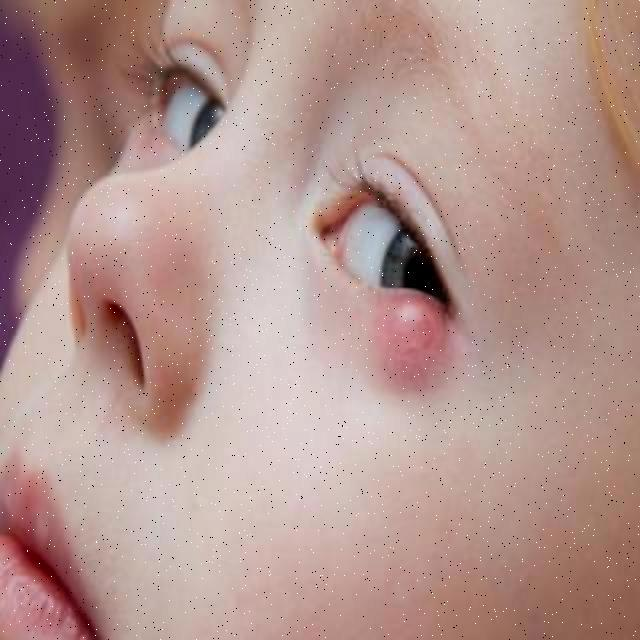Stye: (335, 254, 480, 396)
